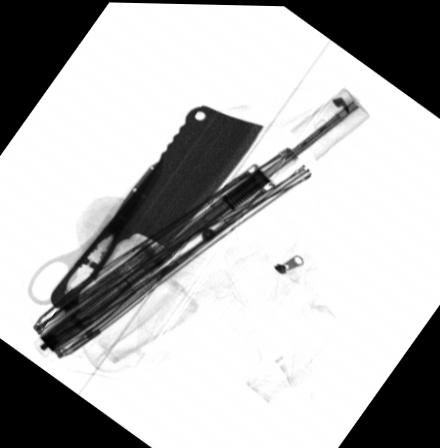Knife: (50, 103, 263, 312)
Scissors: (25, 154, 162, 324)
